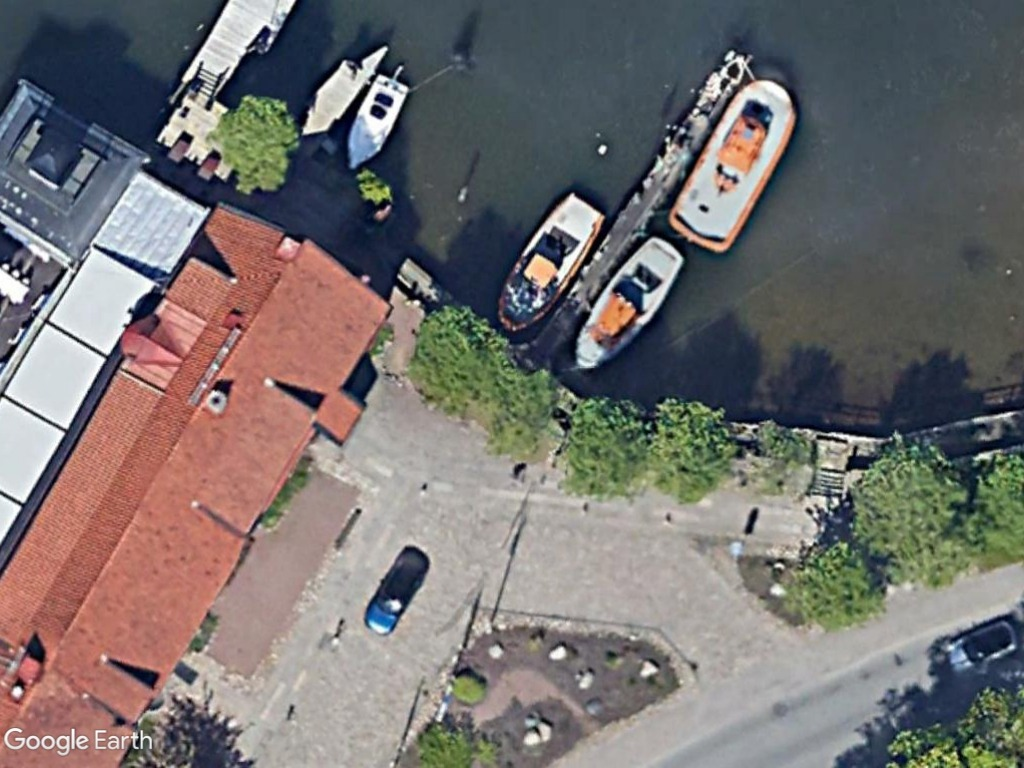boat: (562, 236, 692, 384), (338, 68, 413, 176)
car: (358, 541, 431, 641)
